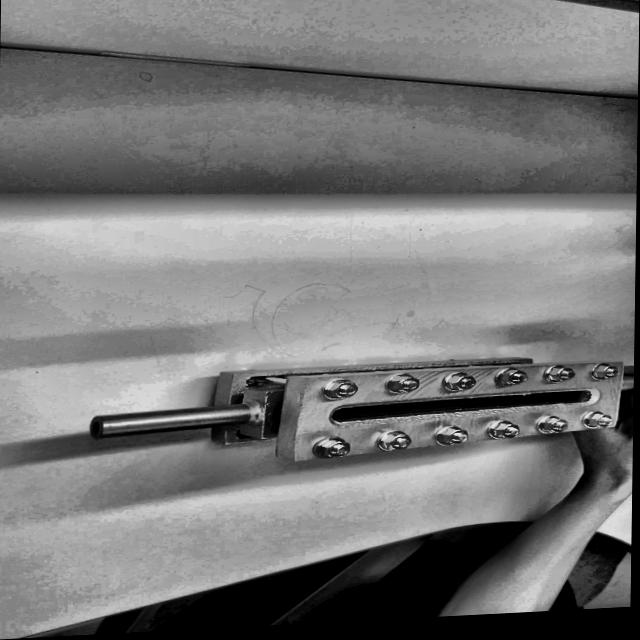ShuiWeiQi_12: (100, 341, 621, 471)
